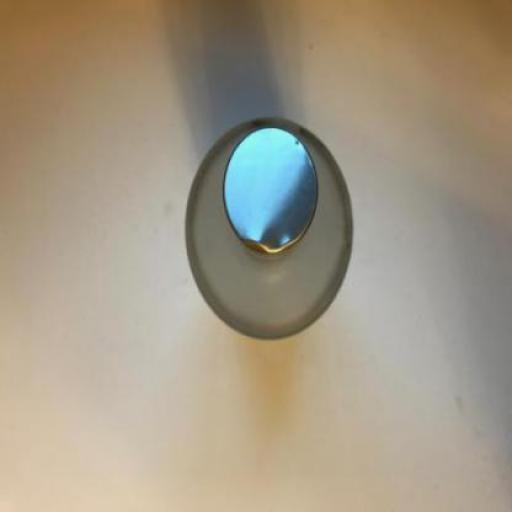glass: (185, 116, 352, 338)
metal: (221, 126, 318, 254)
